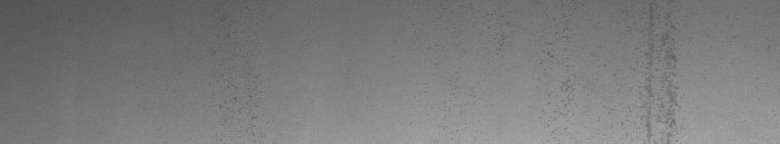ib: (494, 28, 572, 107)
